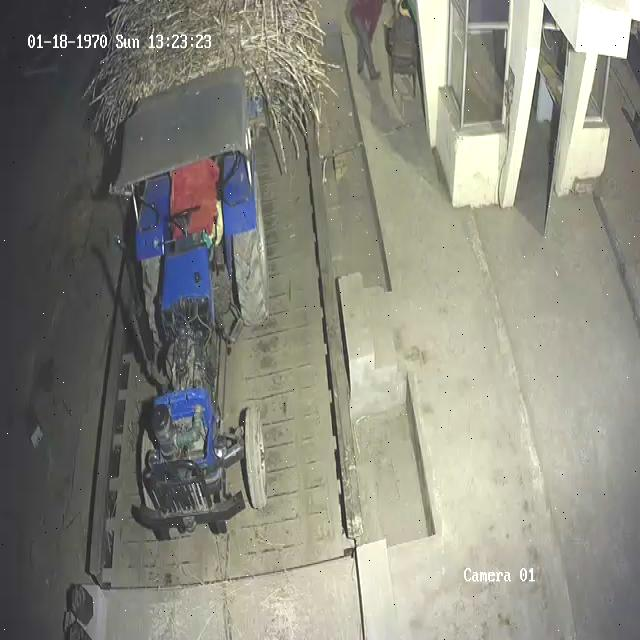Tratores - v5 YOLO V8L 2024-11-13: (120, 89, 274, 542)
